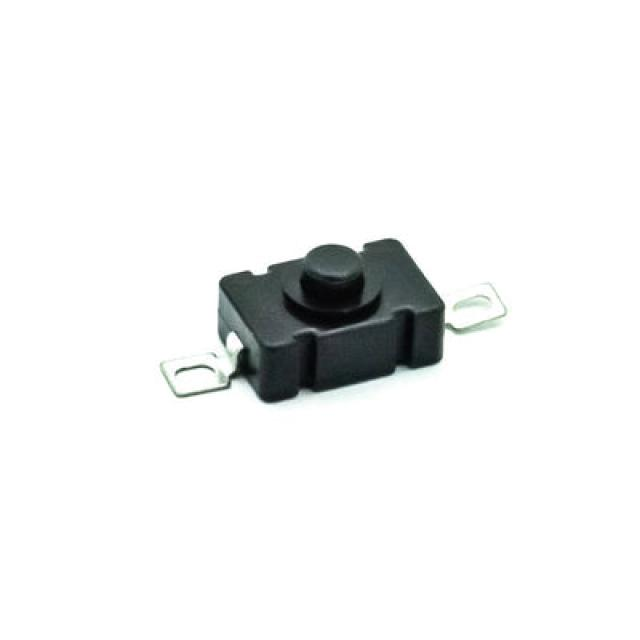Push button: (158, 238, 507, 405)
